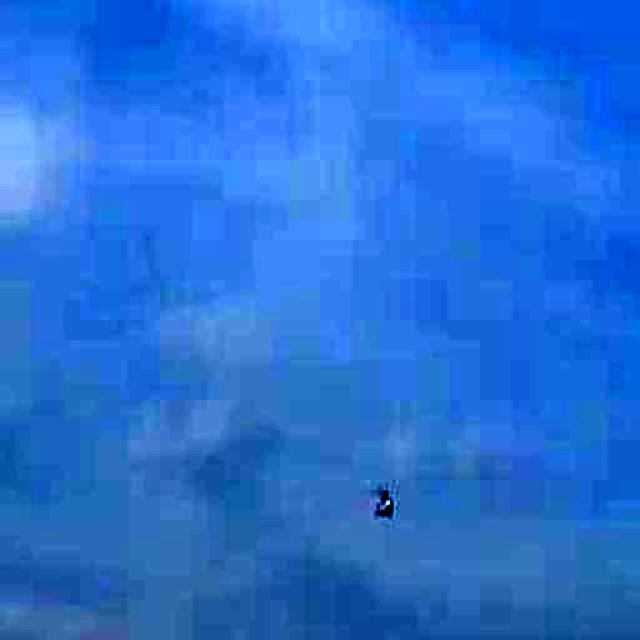drone: (364, 472, 408, 531)
